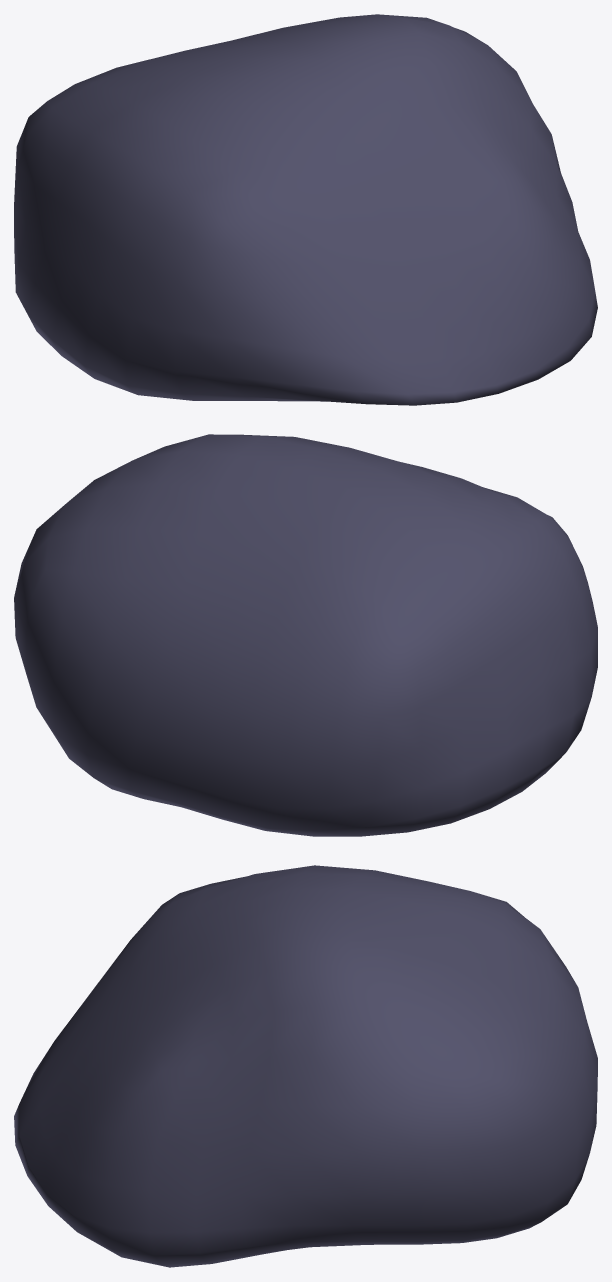
Rendered from Rock_A_03.fbx.
3 views of the same model, one above another, from view 1: azimuth 30°, elevation 25°; view 2: azimuth 150°, elevation 25°; view 3: azimuth 270°, elevation 25° (orthographic).
Parts seen in each view (by area): view 1: Rock_A_03_LOD0; view 2: Rock_A_03_LOD0; view 3: Rock_A_03_LOD0.
Part boxes in pixels (<box>): Rock_A_03_LOD0: <box>14,14,597,405</box>; Rock_A_03_LOD0: <box>14,434,597,836</box>; Rock_A_03_LOD0: <box>14,865,597,1267</box>.
Size of what is drawn, in the model's own units: 452 by 245 by 467.
